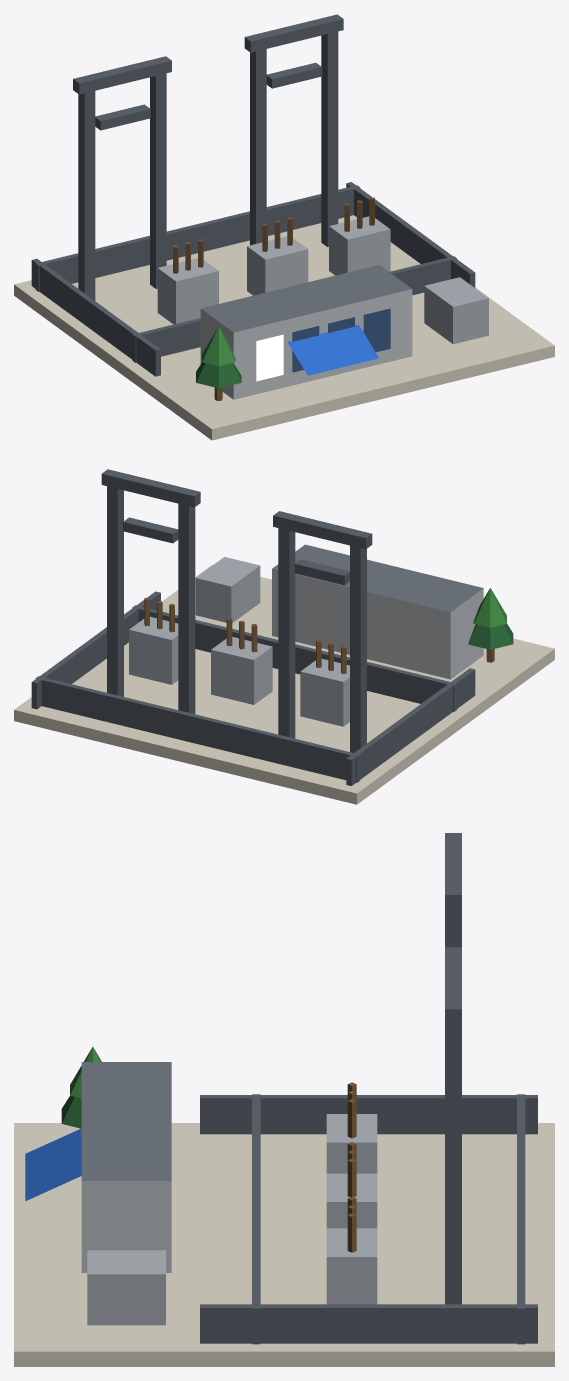
3 renders of one model, top to bottom at view 1: azimuth 30°, elevation 25°; view 2: azimuth 150°, elevation 25°; view 3: azimuth 270°, elevation 25°, orthographic. The views are drawn at different scales.
Parts seen in each view (by area): view 1: b35; view 2: b35; view 3: b35.
Part boxes in pixels (x1=…): b35: x1=14, y1=14, x2=554, y2=440; b35: x1=14, y1=469, x2=554, y2=804; b35: x1=14, y1=833, x2=554, y2=1366.
Bounding box in the file's own units: 0.96 × 0.63 × 0.96.
